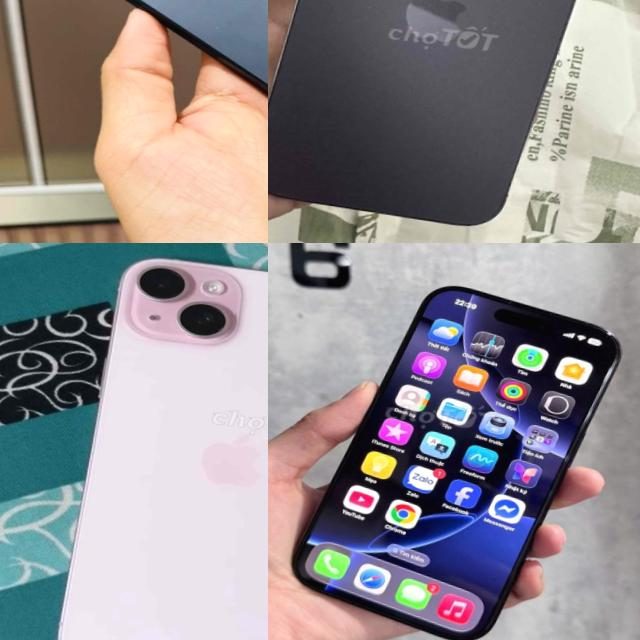gen_14: (268, 0, 631, 242)
gen_15: (46, 243, 268, 640), (0, 0, 268, 163)
gen_16: (273, 265, 632, 640)
